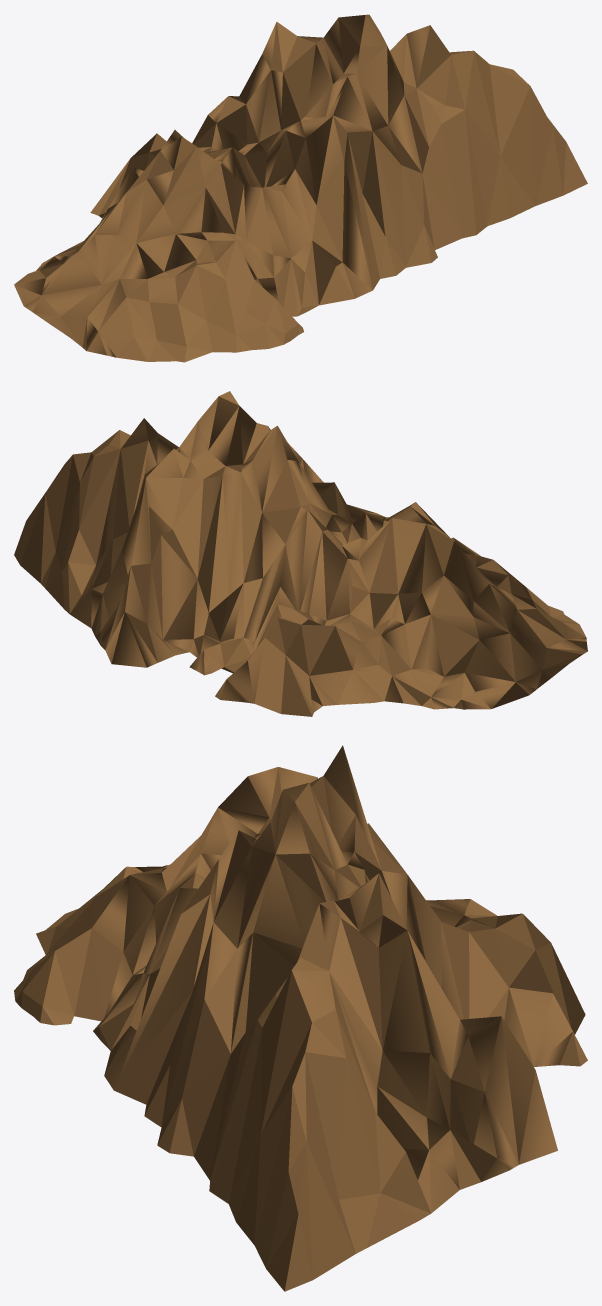
File: mountain003.gltf
3 renders of one model, top to bottom at view 1: azimuth 30°, elevation 25°; view 2: azimuth 150°, elevation 25°; view 3: azimuth 270°, elevation 25°, orthographic. The views are drawn at different scales.
Visible parts, largest first — view 1: node_mountain003_1_-1746; view 2: node_mountain003_1_-1746; view 3: node_mountain003_1_-1746.
Part boxes in pixels (bbox=[...]): node_mountain003_1_-1746: bbox=[14, 14, 587, 362]; node_mountain003_1_-1746: bbox=[14, 391, 587, 716]; node_mountain003_1_-1746: bbox=[14, 745, 587, 1291].
Size of the model in its own units: 8.55 by 3.33 by 5.13.
Materials: 1 (1 with a texture image).
